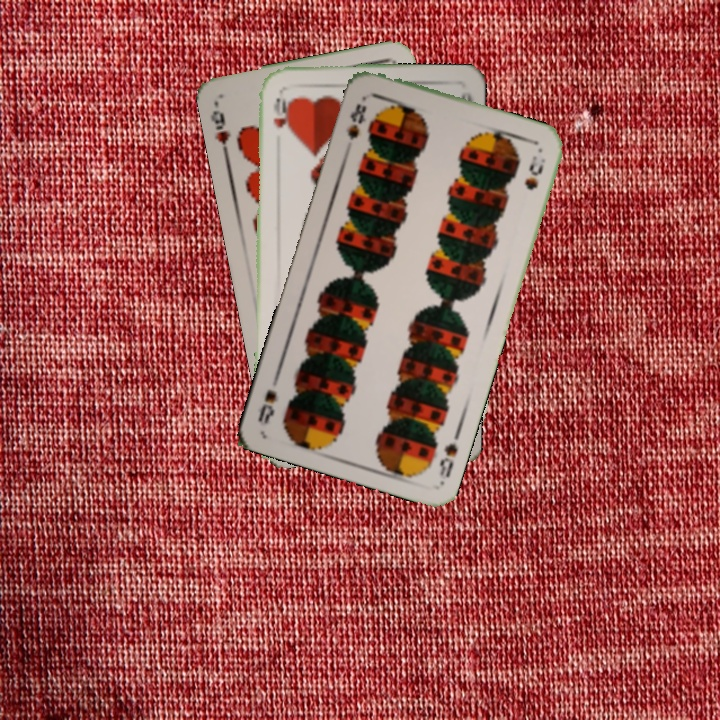H9: (206, 99, 234, 158)
HO: (269, 90, 291, 133)
S8: (341, 99, 369, 143), (435, 439, 460, 481)
